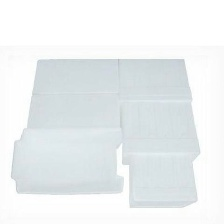foam_box: (6, 123, 126, 199), (16, 92, 126, 154), (116, 99, 204, 167), (124, 152, 202, 213), (29, 56, 122, 104), (114, 54, 196, 107)
